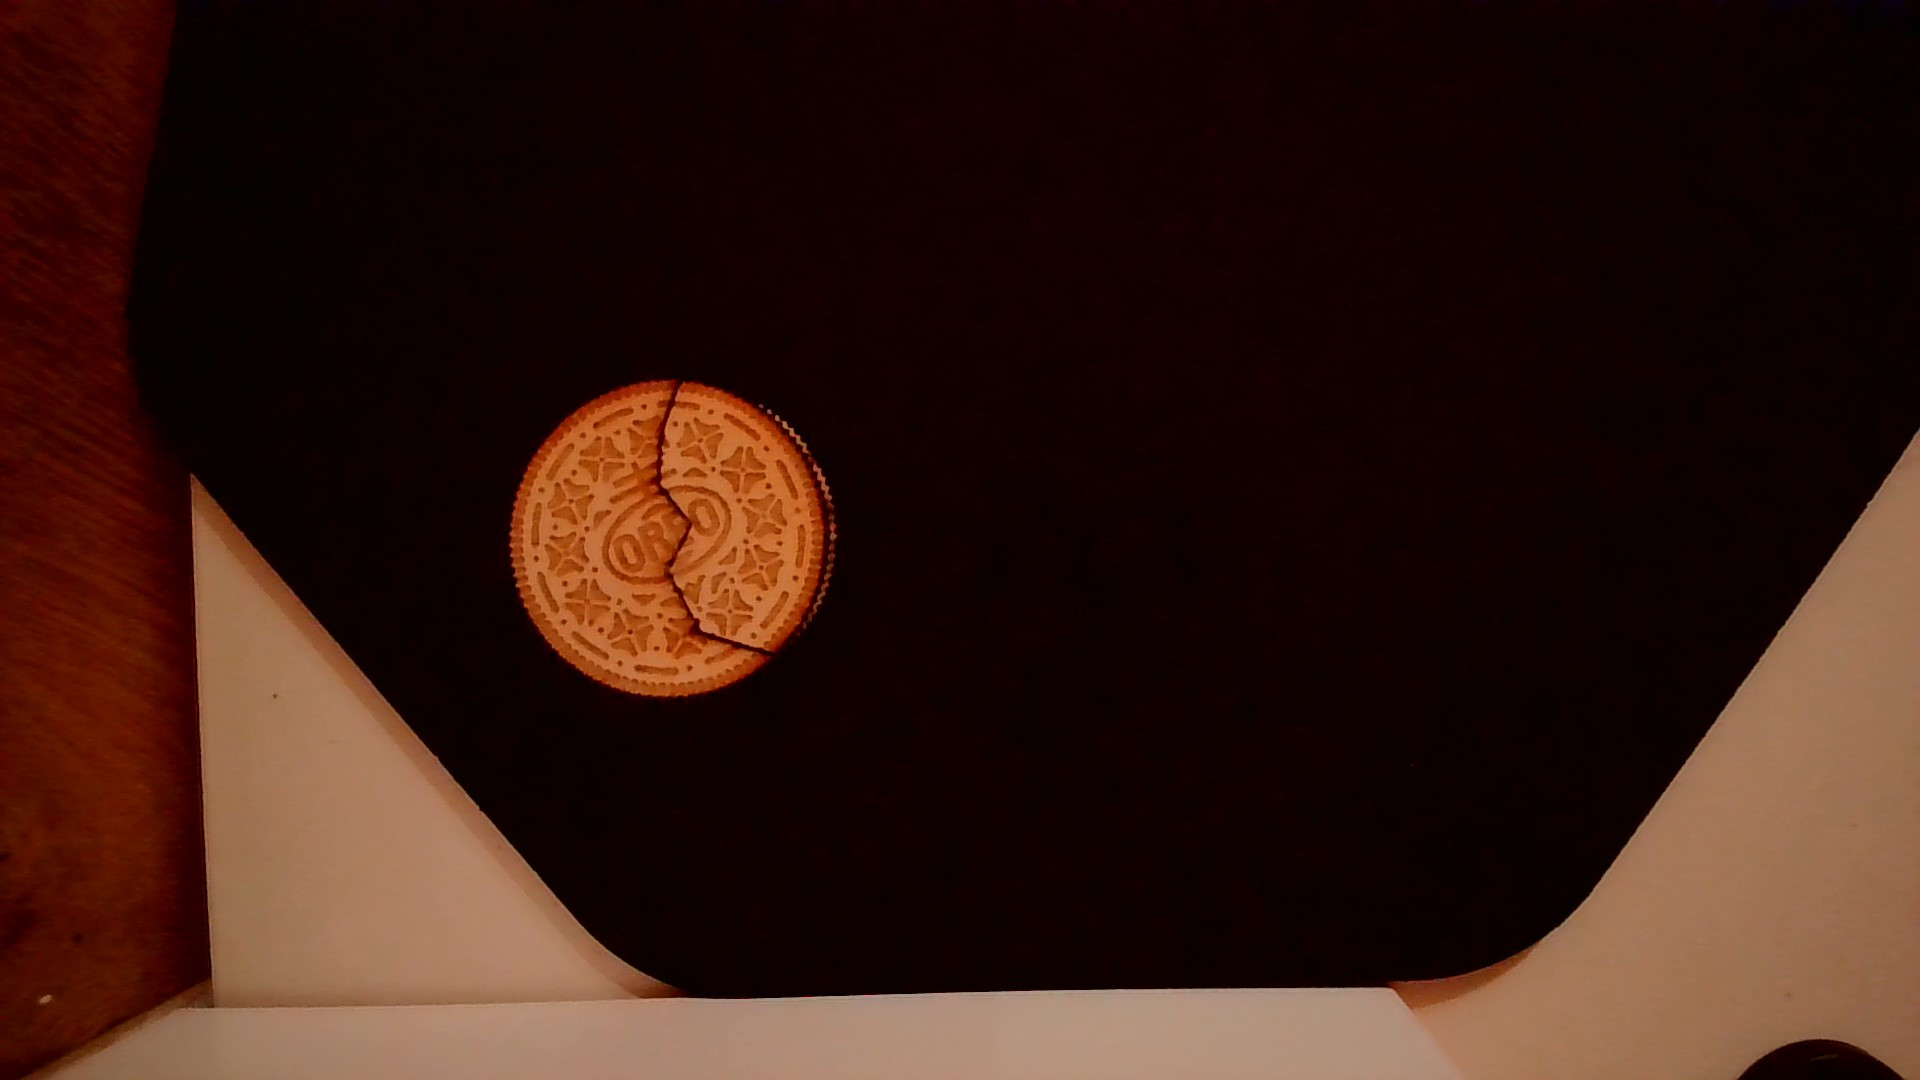Fissure: (647, 367, 789, 661)
Oréo: (504, 372, 847, 702)
